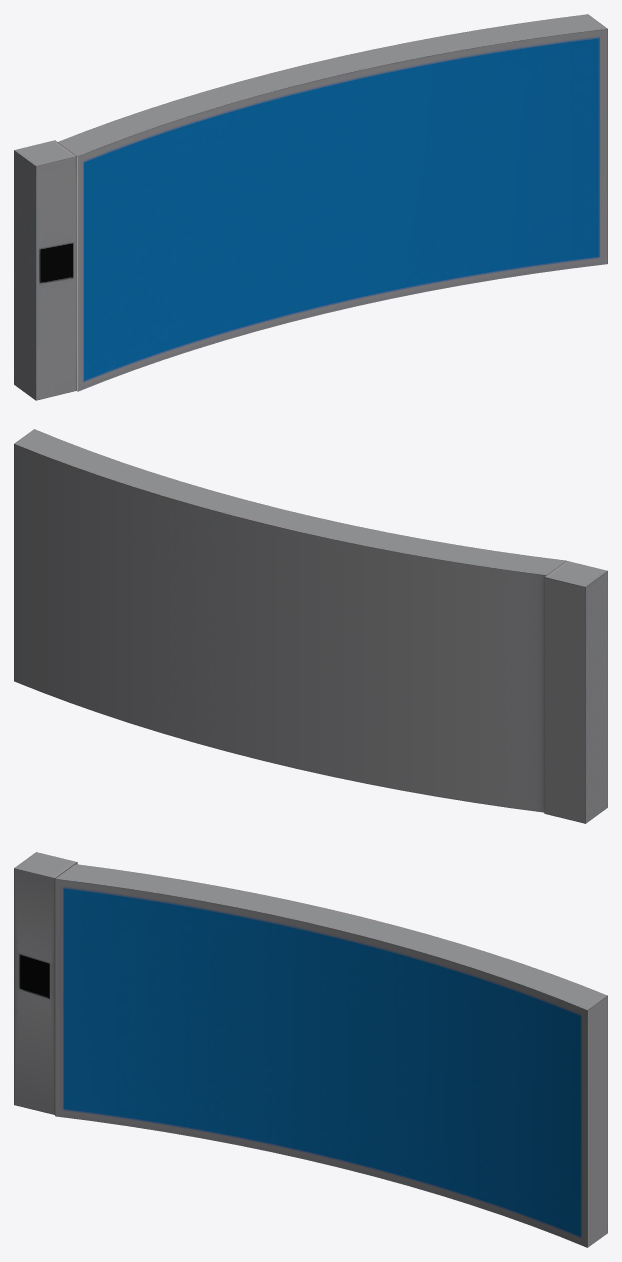
The picture shows the model from 3 angles, top to bottom: view 1: azimuth 30°, elevation 25°; view 2: azimuth 150°, elevation 25°; view 3: azimuth 330°, elevation 25°; orthographic projection.
Parts seen in each view (by area): view 1: dapingmu_0; view 2: dapingmu_0; view 3: dapingmu_0.
Part boxes in pixels (<box>): dapingmu_0: <box>14,14,607,400</box>; dapingmu_0: <box>14,429,607,823</box>; dapingmu_0: <box>14,852,607,1247</box>.
Bounding box in the file's own units: 3.22 × 1.27 × 0.382.
Materials: 1 (1 with a texture image).
